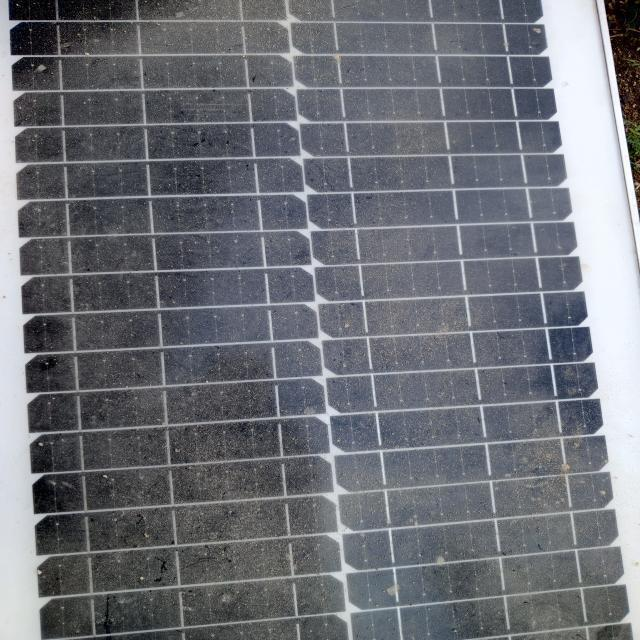Anomaly Solar Panel: (0, 0, 611, 640)
Surface Contaminant: (14, 13, 565, 639)
